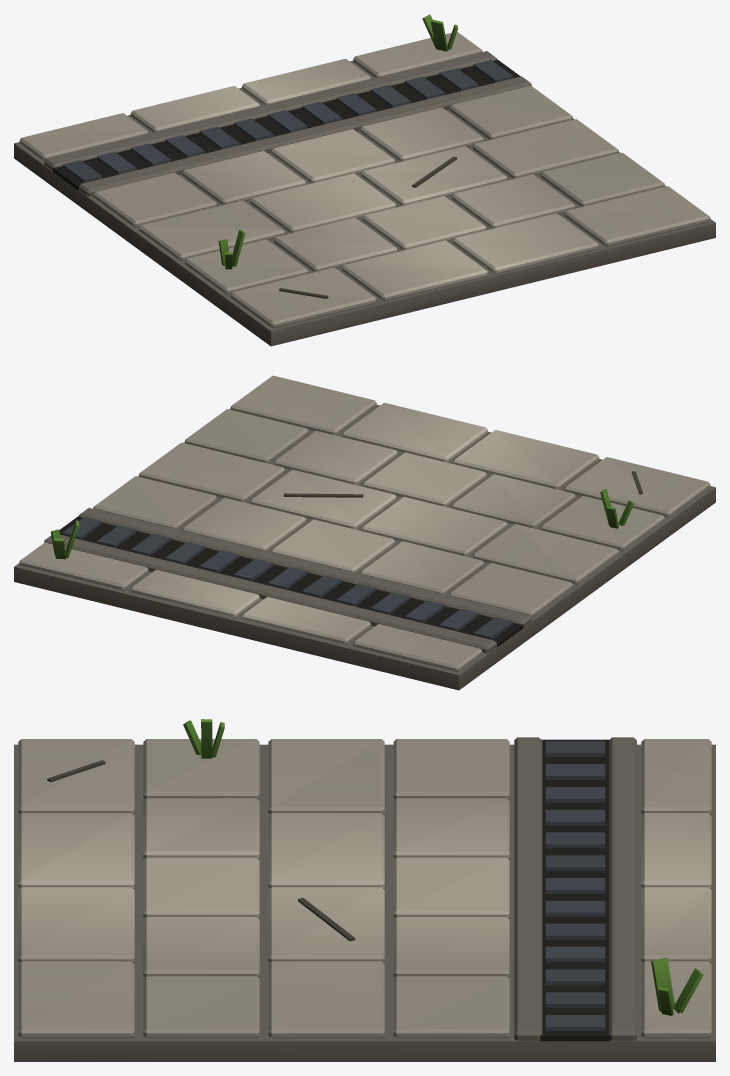
Rendered from station-concourse-floor-tile.glb.
3 renders of one model, top to bottom at view 1: azimuth 30°, elevation 25°; view 2: azimuth 150°, elevation 25°; view 3: azimuth 270°, elevation 25°, orthographic. The views are drawn at different scales.
Parts seen in each view (by area): view 1: station_concourse_floor_tile; view 2: station_concourse_floor_tile; view 3: station_concourse_floor_tile.
Part boxes in pixels (x1,y1,x2,y2): station_concourse_floor_tile: (14,14,715,346); station_concourse_floor_tile: (14,375,715,690); station_concourse_floor_tile: (14,719,715,1061).
Size of the model in its own units: 4 by 0.4658 by 4.
